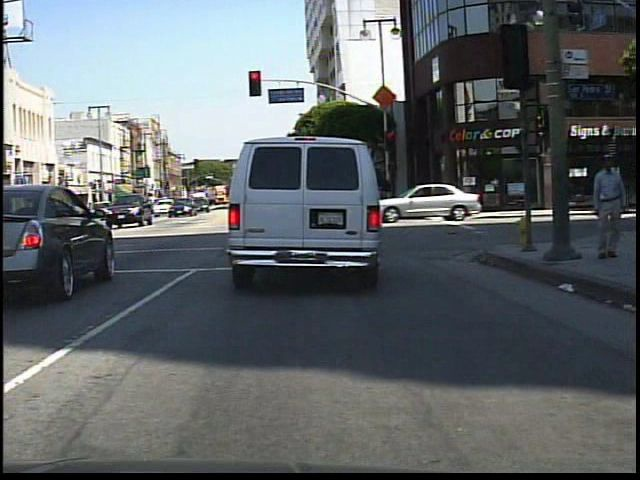person: (588, 148, 629, 262)
